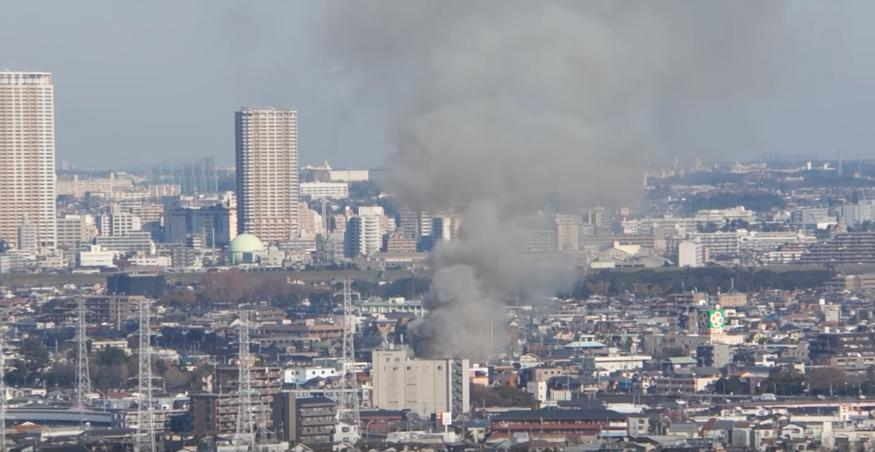smoke: (439, 83, 612, 183), (432, 273, 519, 346)
